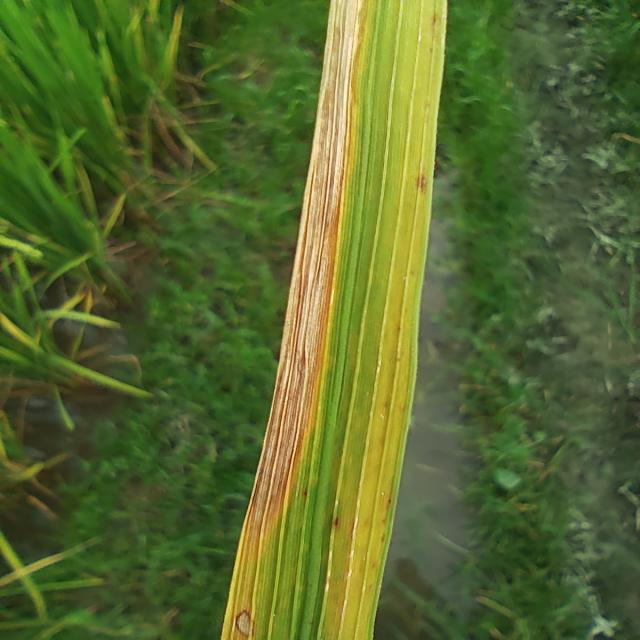Bacterial_Leaf_Blight: (243, 0, 367, 533), (328, 482, 388, 640)
